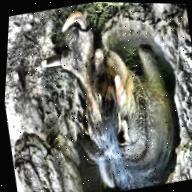boar: (35, 1, 192, 192)
